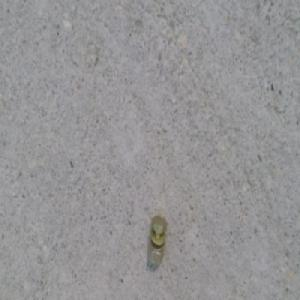BoltNutSet: (148, 215, 166, 262)
